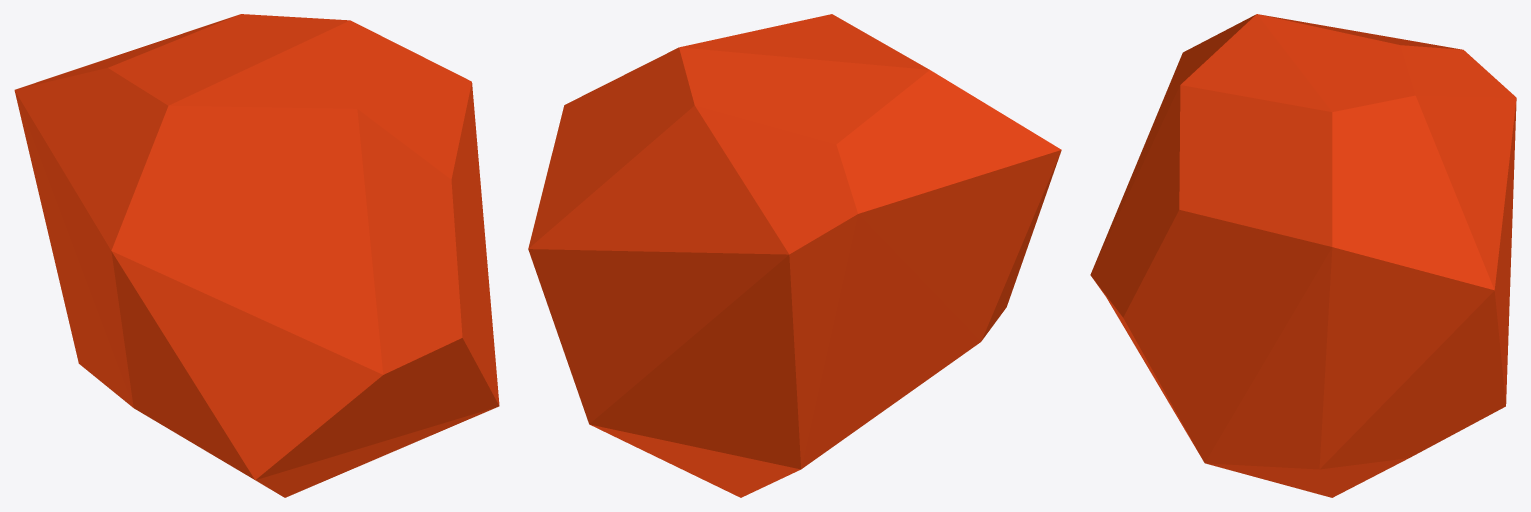
The model's file is meteor.fbx.
3 views of the same model, side by side, from view 1: azimuth 30°, elevation 25°; view 2: azimuth 150°, elevation 25°; view 3: azimuth 270°, elevation 25° (orthographic). The views are drawn at different scales.
Parts seen in each view (by area): view 1: Icosphere; view 2: Icosphere; view 3: Icosphere.
Boxes of the visible parts, bbox=[...] form: Icosphere: bbox=[14, 14, 499, 497]; Icosphere: bbox=[528, 14, 1061, 497]; Icosphere: bbox=[1090, 14, 1516, 497].
Size of the model in its own units: 387 by 385 by 358.
